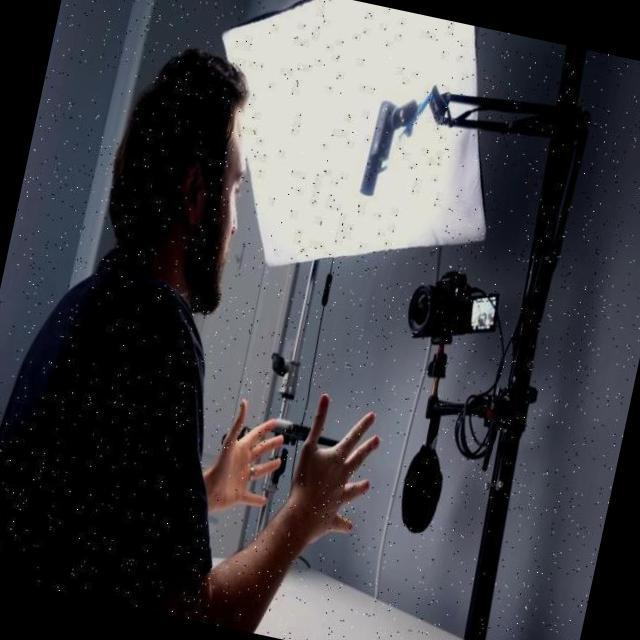person: (0, 23, 451, 640)
